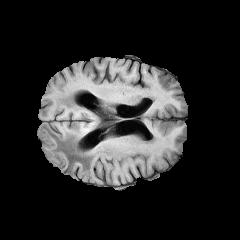glioma: (39, 90, 121, 171)
